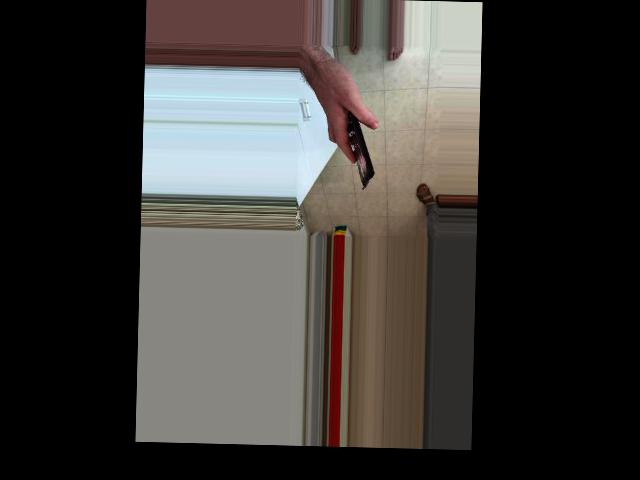chocolate: (324, 76, 379, 191)
